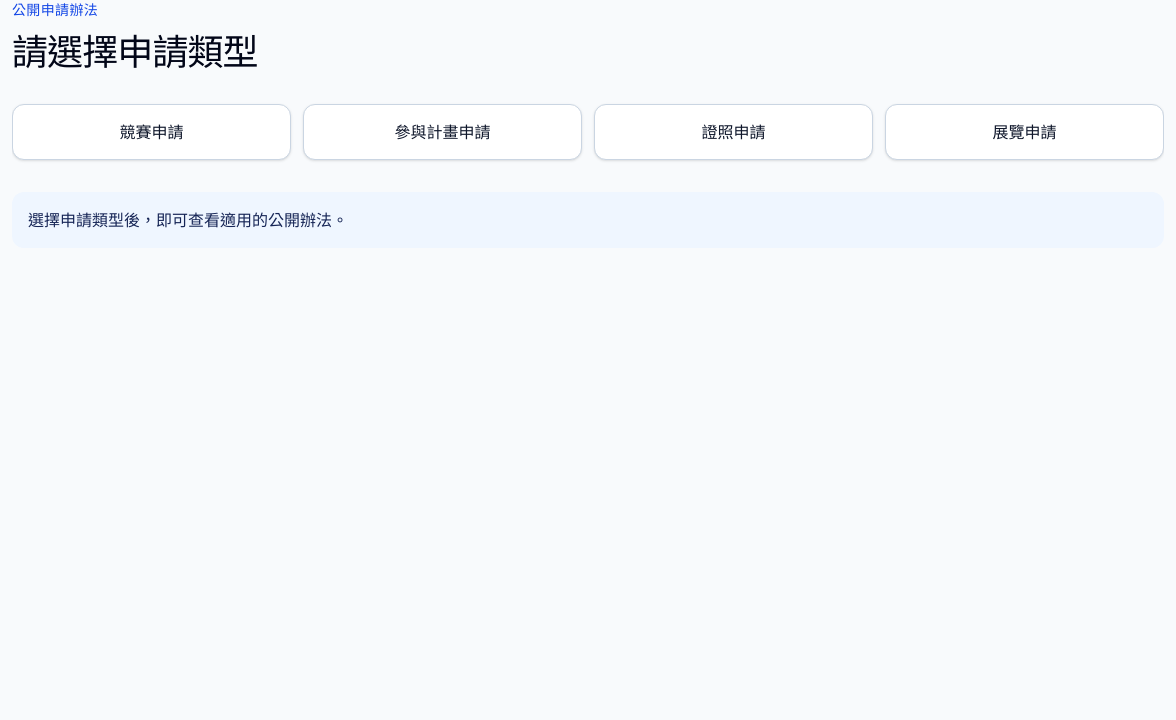
Test: PublishedInstructionsPage › renders a section returned after effectiveTo without filtering it
The width and height of the screenshot is (1176, 720).
Click the button "競賽申請".
click(152, 132)  # box [12,104,291,160]
(page scrolled)
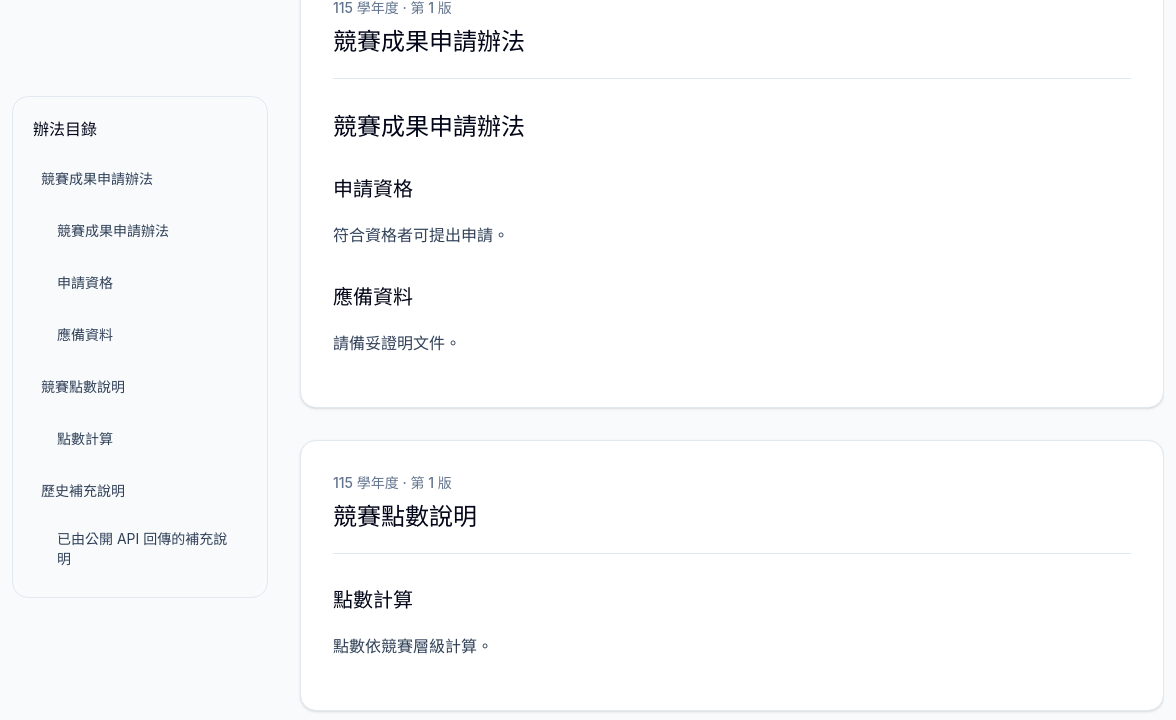
Result: the link "歷史補充說明" is shown at [41,482,125,499]
